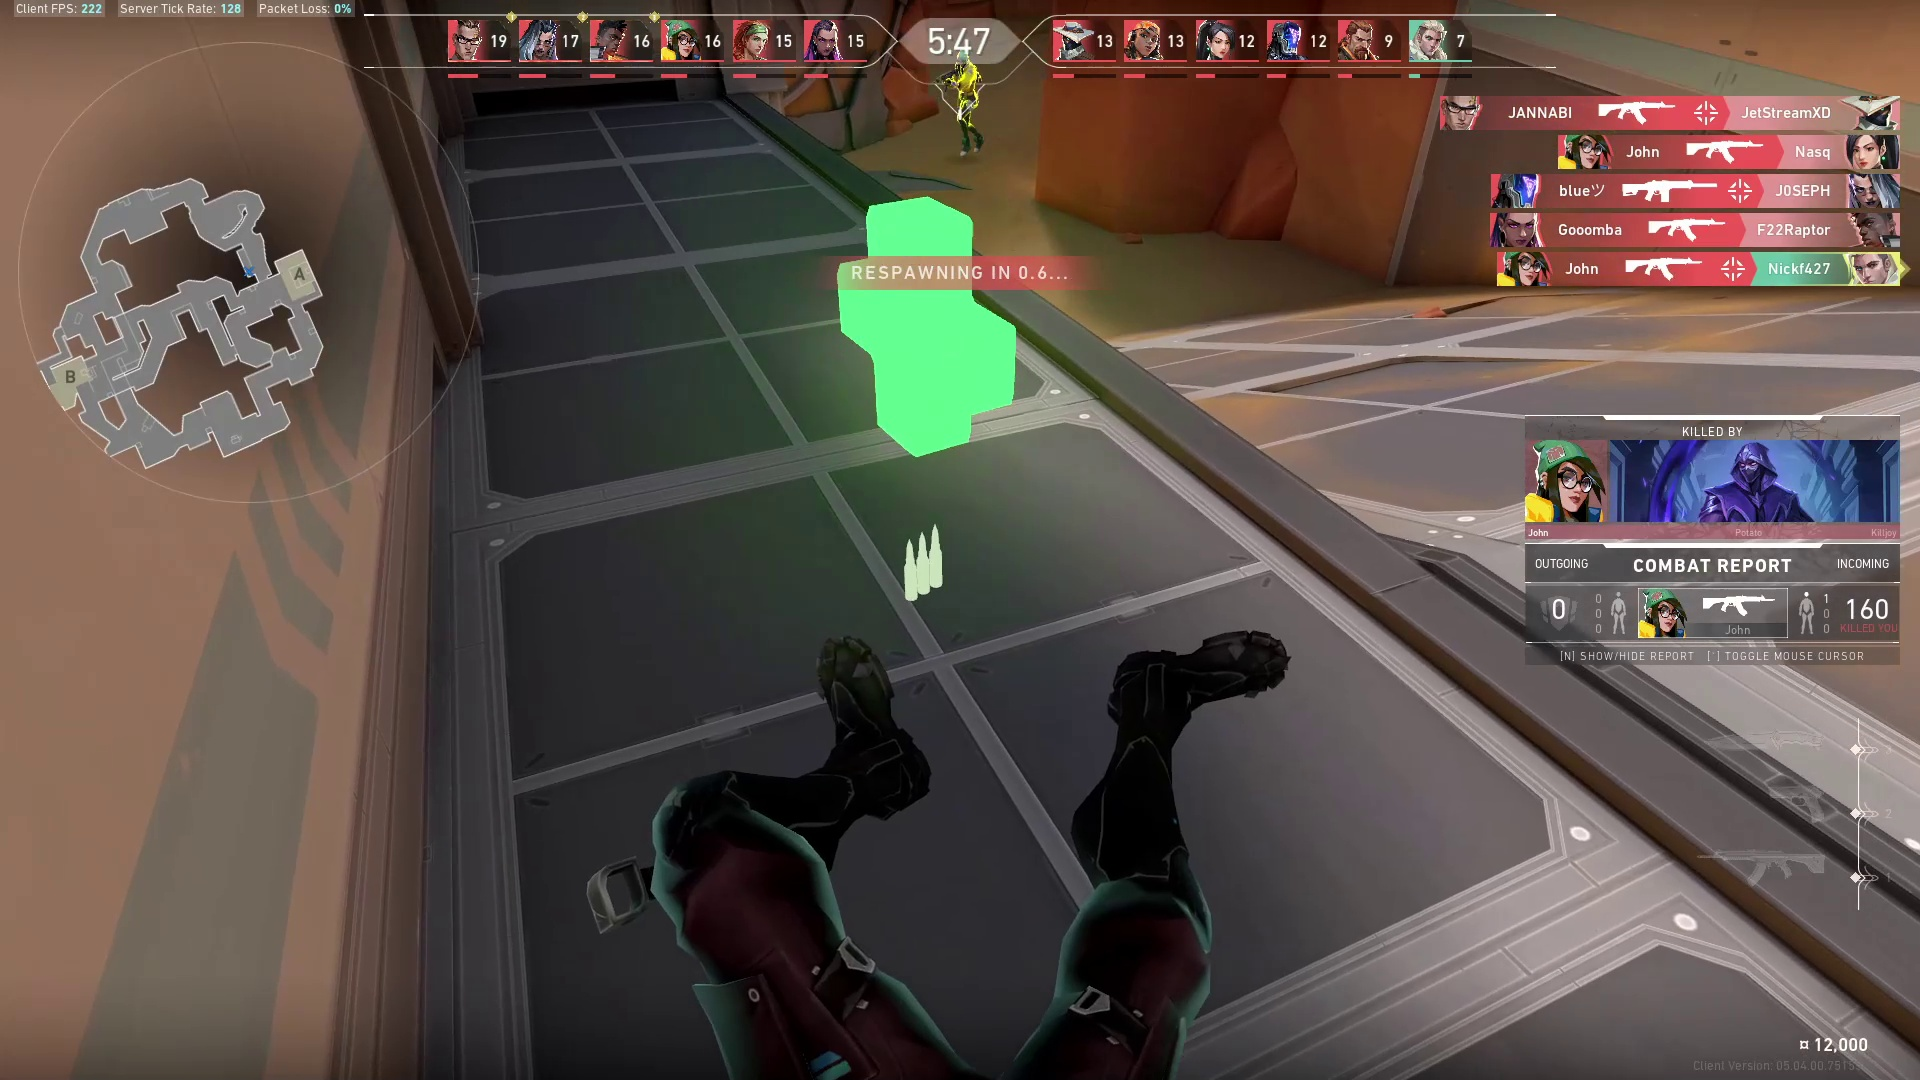enemy_body: (938, 63, 990, 158)
enemy_gen: (953, 47, 971, 69)
